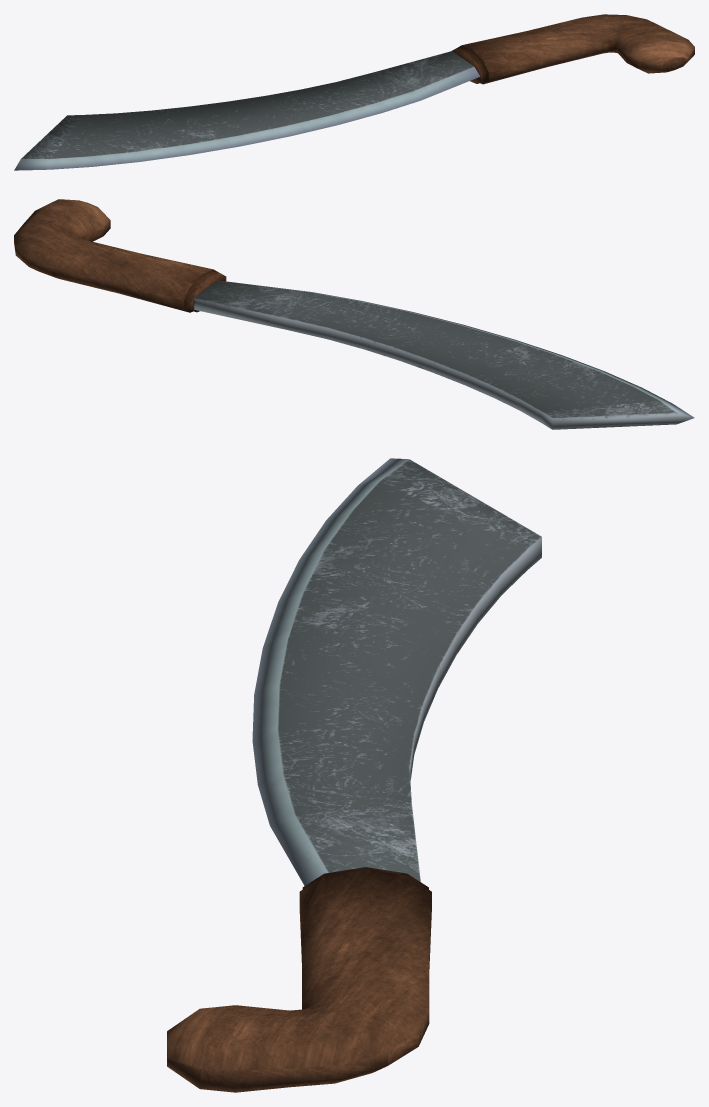
Rendered from Golok.fbx.
3 renders of one model, top to bottom at view 1: azimuth 30°, elevation 25°; view 2: azimuth 150°, elevation 25°; view 3: azimuth 270°, elevation 25°, orthographic. The views are drawn at different scales.
Parts seen in each view (by area): view 1: Plane, Cylinder; view 2: Plane, Cylinder; view 3: Plane, Cylinder.
Boxes of the visible parts, x1,y1,x2,y2 form: Plane: (14,51,480,170); Cylinder: (452,14,694,84); Plane: (193,280,694,429); Cylinder: (14,199,226,312); Plane: (252,458,541,885); Cylinder: (167,867,431,1092).
Bounding box in the file's own units: 351 × 16.62 × 89.55.
